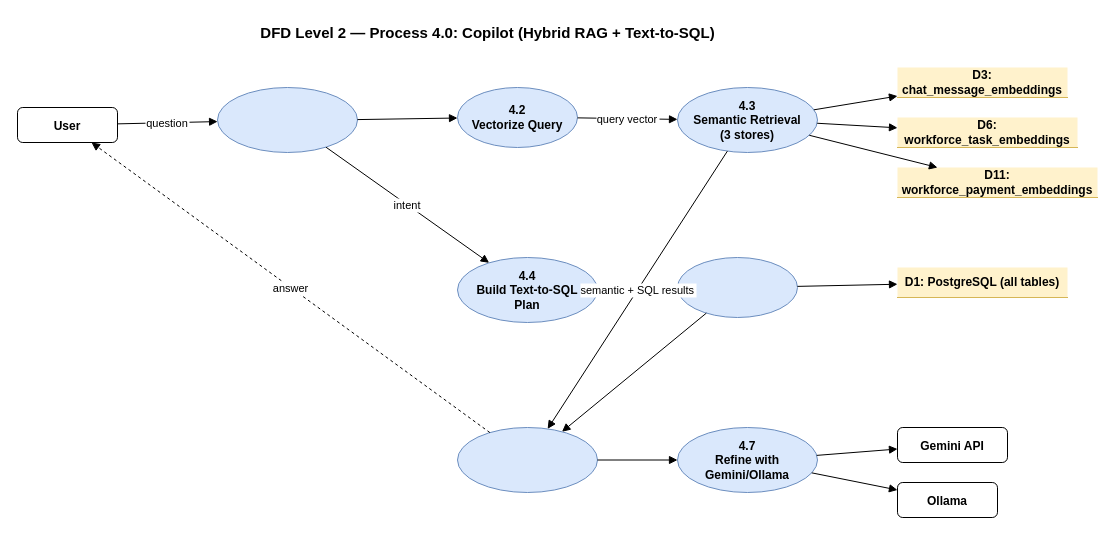
This 1115x535 diagram has some shape labels left out. The centre of each missing label's shape, as x and y in pixels:
"4.1 Receive Query & Classify Intent" belongs at point (287, 119).
"4.5 Execute SQL" belongs at point (737, 287).
"4.6 Assemble Grounded Answer" belongs at point (527, 459).
